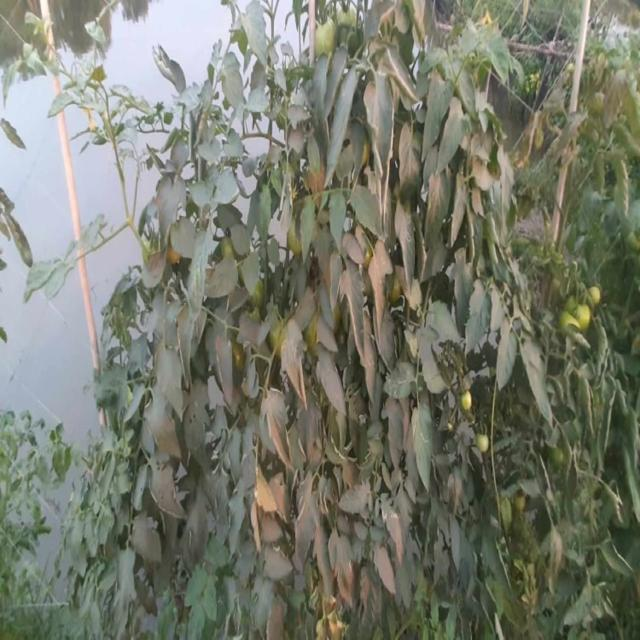tomato: (301, 17, 337, 56), (332, 1, 358, 36), (223, 239, 248, 273), (267, 316, 289, 353), (573, 299, 598, 331), (547, 447, 569, 475), (475, 431, 496, 459), (579, 279, 601, 305), (557, 310, 577, 337), (456, 393, 477, 415)
